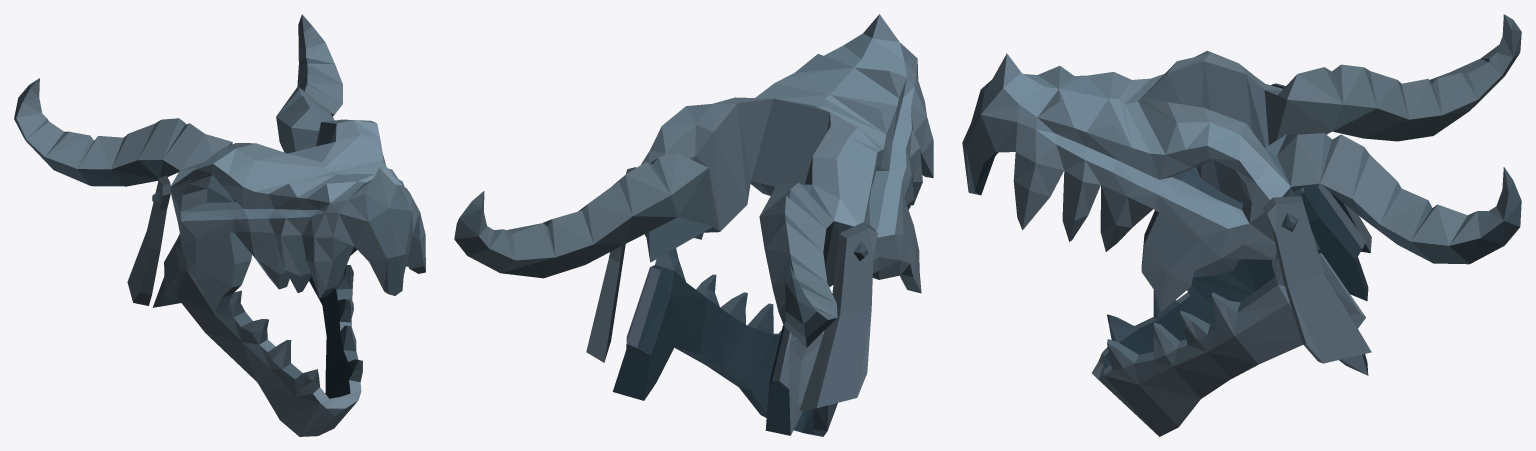
Rendered from repeatingCrossbowDragonTip.glb.
3 renders of one model, left to right at view 1: azimuth 30°, elevation 25°; view 2: azimuth 150°, elevation 25°; view 3: azimuth 270°, elevation 25°, orthographic. The views are drawn at different scales.
Parts seen in each view (by area): view 1: repeatingCrossbowDragonTip; view 2: repeatingCrossbowDragonTip; view 3: repeatingCrossbowDragonTip.
Boxes of the visible parts, left/top/right/bottom form: repeatingCrossbowDragonTip: left=14, top=14, right=425, bottom=436; repeatingCrossbowDragonTip: left=454, top=14, right=933, bottom=436; repeatingCrossbowDragonTip: left=962, top=14, right=1521, bottom=436.
Bounding box in the file's own units: 0.2367 × 0.2303 × 0.3109.
